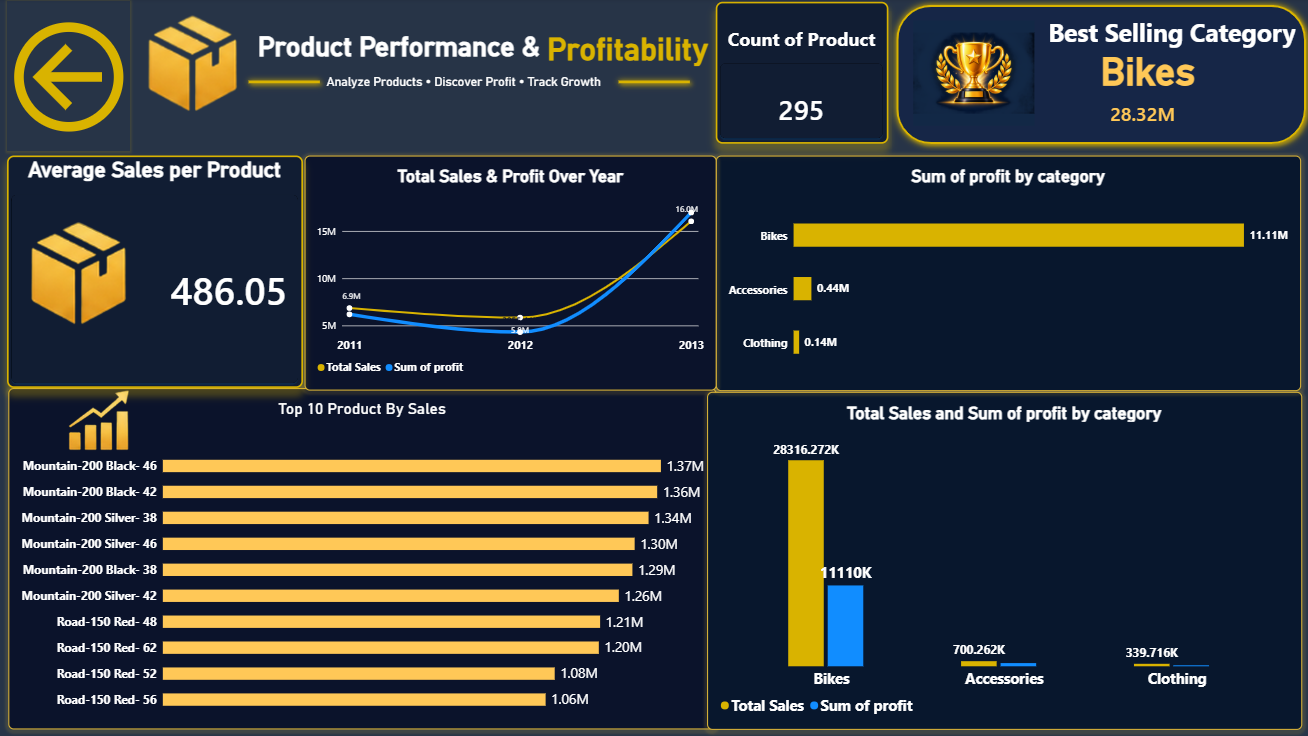

What the dashboard file says about the page in this screenshot:
{"tool":"powerbi","page":{"name":"Product Performance & Profitability","canvas":[1920,1080],"ordinal":2},"visuals":[{"type":"clusteredBarChart","title":"Top 10 Product By Sales","fields":{"Category":["products.product_name"],"Y":["products.Total Sales"]},"box":[16.1,569.6,1033.9,498.2],"z":0},{"type":"clusteredColumnChart","fields":{"Category":["products.category"],"Y":["products.Total Sales","Sum(gold fact_sales.profit)"]},"box":[1035.3,574.3,868.6,494],"z":1000},{"type":"barChart","fields":{"Category":["products.category"],"Y":["Sum(gold fact_sales.profit)"]},"box":[1049.7,230.5,854.2,343.7],"z":2000},{"type":"lineChart","title":"Total Sales & Profit Over Year","fields":{"Category":["Dim_Date.Date.Variation.Date Hierarchy.Year"],"Y":["products.Total Sales"],"Y2":["Sum(gold fact_sales.profit)"]},"box":[448.2,230.4,601.8,342.9],"z":3000},{"type":"cardVisual","title":" ","fields":{"Data":["Count(products.product_name)"]},"box":[1049.7,6.2,251.8,207.1],"z":4000},{"type":"cardVisual","title":"Average Sales per Product","fields":{"Data":["Dim_Date.AVG"]},"box":[14.3,230.4,432.1,339.3],"z":5000},{"type":"textbox","title":"Product Performance & ","box":[230.4,48.2,714,150],"z":6000},{"type":"textbox","title":" Profitability","box":[564.3,48.2,714,150],"z":7000},{"type":"image","box":[158.9,19.6,253.6,150],"z":8000},{"type":"textbox","title":"Analyze Products • Discover Profit • Track Growth","box":[453.6,110.7,453.6,150],"z":9000},{"type":"shape","box":[898.2,48.2,123.2,150],"z":10000},{"type":"shape","box":[357.1,48.2,123.2,150],"z":11000},{"type":"image","box":[67.9,569.6,162.5,94.6],"z":12000},{"type":"shape","box":[1301.8,0,617.9,223.2],"z":13000},{"type":"textbox","title":"Bikes","box":[1610.7,75,158.9,75],"z":14000},{"type":"image","box":[1337.5,32.1,176.8,153.6],"z":15000},{"type":"cardVisual","fields":{"Data":["products.BIKES SALES"]},"box":[1592.9,135.7,196.4,66.1],"z":16000},{"type":"actionButton","box":[14.3,3.6,180.4,219.6],"z":17000},{"type":"image","box":[44.6,321.4,150,160.7],"z":18000}]}

Visuals, with their boxes in screenshot pixels (x1, y1, x2, y2), scaled from the page's 1920x1080 canvas onto the 1308x736 screenshot:
"Top 10 Product By Sales" clusteredBarChart: bbox=[11, 388, 715, 728]
clusteredColumnChart - products.category x products.Total Sales: bbox=[705, 391, 1297, 728]
barChart - products.category x Sum(gold fact_sales.profit): bbox=[715, 157, 1297, 391]
"Total Sales & Profit Over Year" lineChart: bbox=[305, 157, 715, 391]
" " cardVisual: bbox=[715, 4, 887, 145]
"Average Sales per Product" cardVisual: bbox=[10, 157, 304, 388]
"Product Performance & " textbox: bbox=[157, 33, 643, 135]
" Profitability" textbox: bbox=[384, 33, 871, 135]
image: bbox=[108, 13, 281, 116]
"Analyze Products • Discover Profit • Track Growth" textbox: bbox=[309, 75, 618, 178]
shape: bbox=[612, 33, 696, 135]
shape: bbox=[243, 33, 327, 135]
image: bbox=[46, 388, 157, 453]
shape: bbox=[887, 0, 1307, 152]
"Bikes" textbox: bbox=[1097, 51, 1206, 102]
image: bbox=[911, 22, 1032, 127]
cardVisual - products.BIKES SALES: bbox=[1085, 92, 1219, 138]
actionButton: bbox=[10, 2, 133, 152]
image: bbox=[30, 219, 133, 329]
